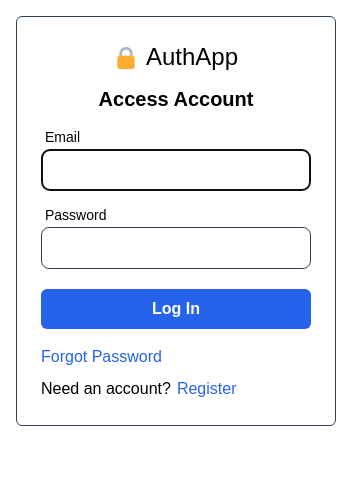
Scenario: AccountApp › login › error handling › shows error text if no status or message
Expected: the heading "AuthApp" is shown, [146,41,238,73]
In the field labelled "Email": (176, 170) [41,149,311,191], type "user@example.com"
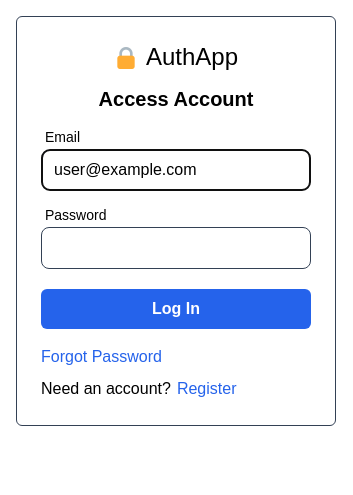
In the password field labelled "Password": (176, 248) [41,227,311,269], type "Passw0rd"
Then press Enter
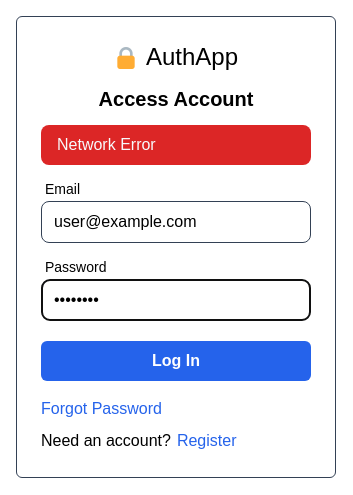
Expected: the text "Network Error" is shown, [41,125,311,165]
